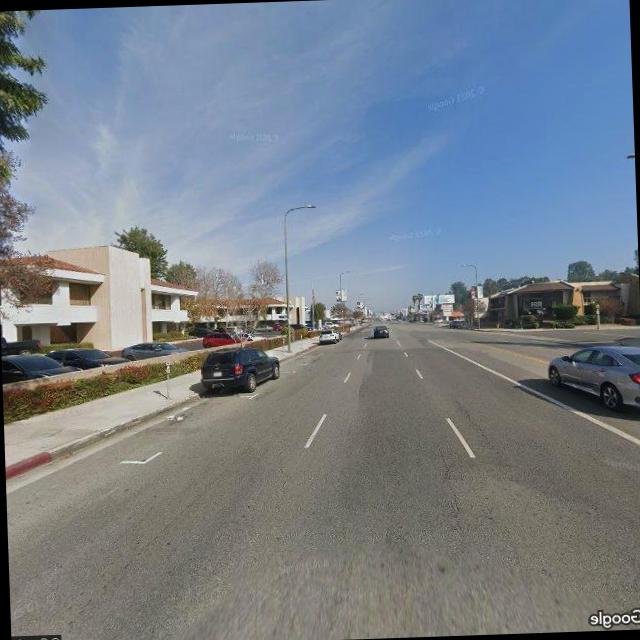pothole: (436, 439, 468, 540), (452, 391, 498, 448)
